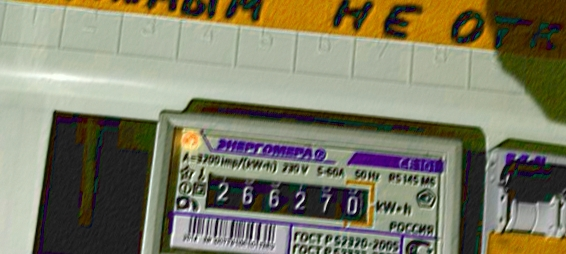0: (345, 195, 360, 216)
2: (215, 181, 232, 203), (292, 190, 308, 211)
6: (240, 184, 256, 206), (267, 188, 282, 209)
7: (318, 193, 332, 213)
screen: (195, 162, 384, 234)
